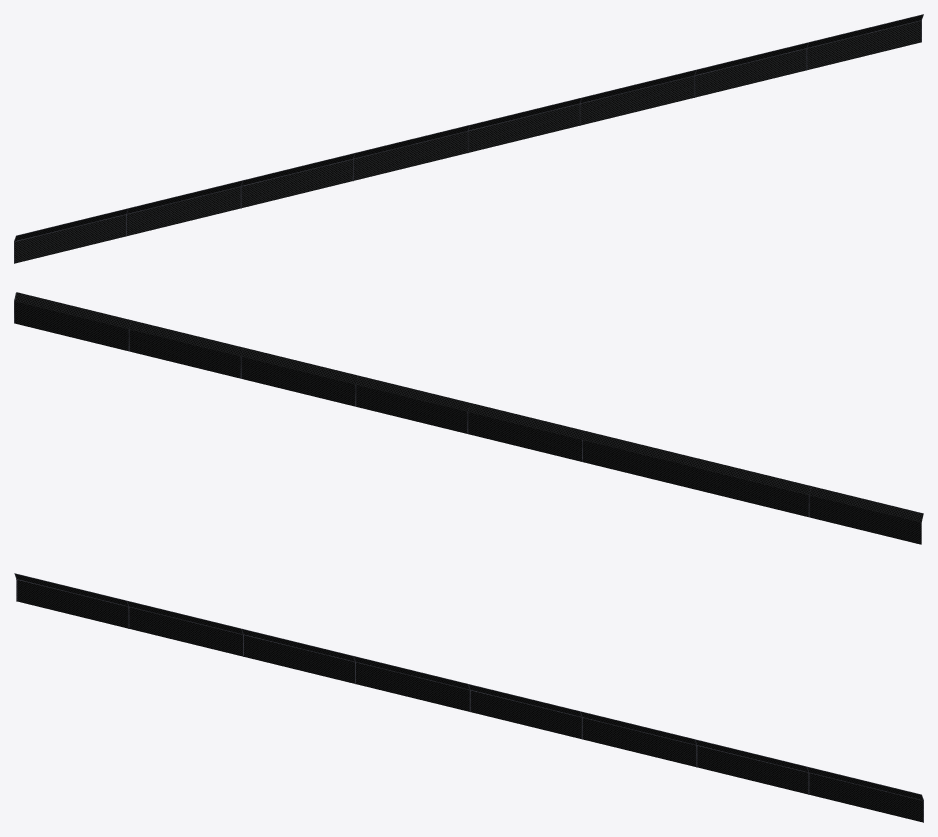
The model's file is M10_Z1_ChainFence01.glb.
The picture shows the model from 3 angles, top to bottom: view 1: azimuth 30°, elevation 25°; view 2: azimuth 150°, elevation 25°; view 3: azimuth 330°, elevation 25°; orthographic projection.
Visible parts, largest first — view 1: M10_Z1_CHAINFENCE01; view 2: M10_Z1_CHAINFENCE01; view 3: M10_Z1_CHAINFENCE01.
Part boxes in pixels (x1,y1,x2,y2): M10_Z1_CHAINFENCE01: [14, 14, 923, 263]; M10_Z1_CHAINFENCE01: [14, 292, 923, 544]; M10_Z1_CHAINFENCE01: [14, 573, 923, 822].
Size of the model in its own units: 32.03 by 1 by 0.141.
Materials: 2 (2 with a texture image).
